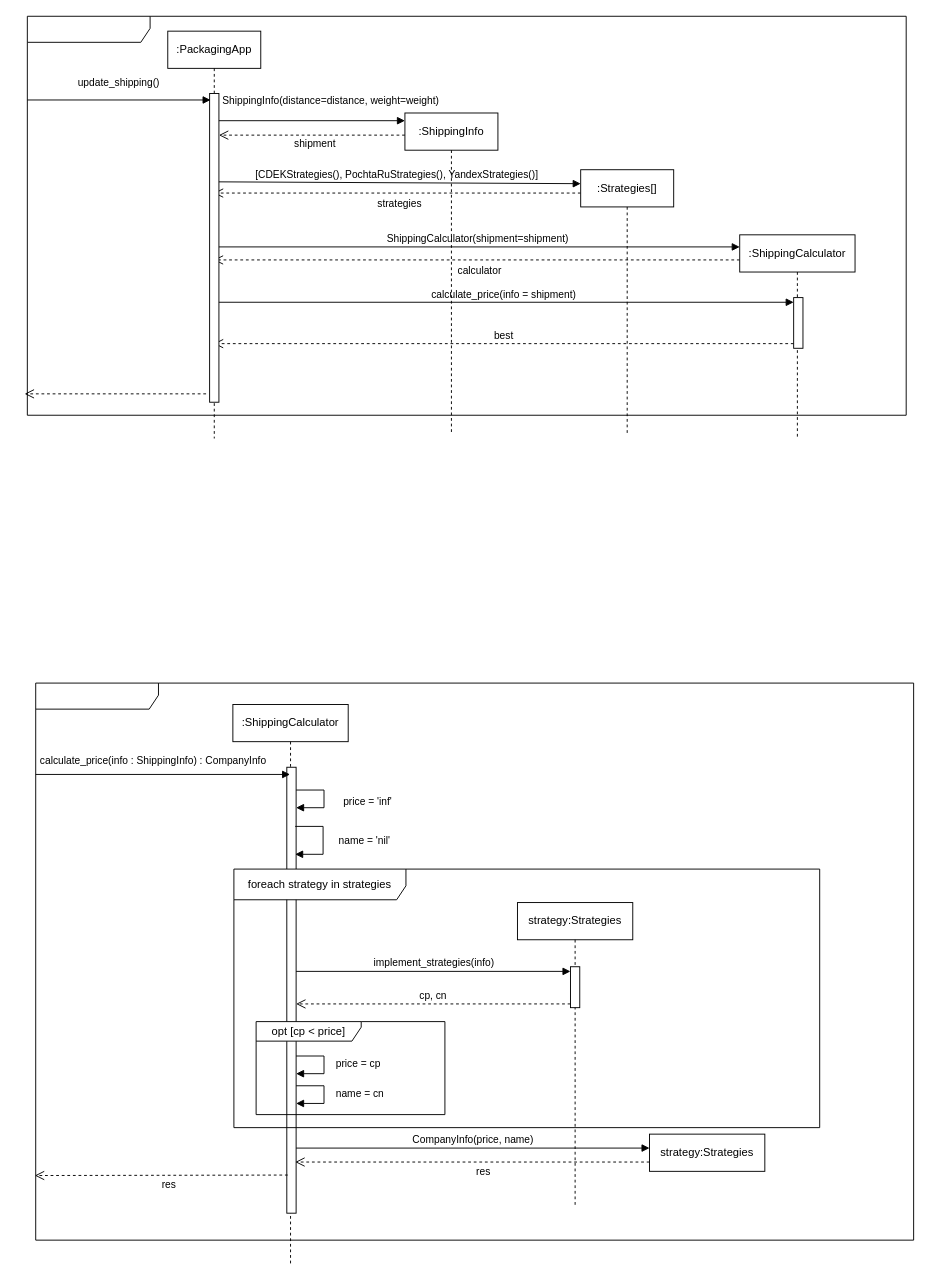
Some shapes in this 930 by 1282 pixel diagram are drawn without their labels. Each missing label, with the centre of its shape:
"sd calculate_price" belongs at pixel 474 961.
"sd: update_shipping()" belongs at pixel 466 215.
